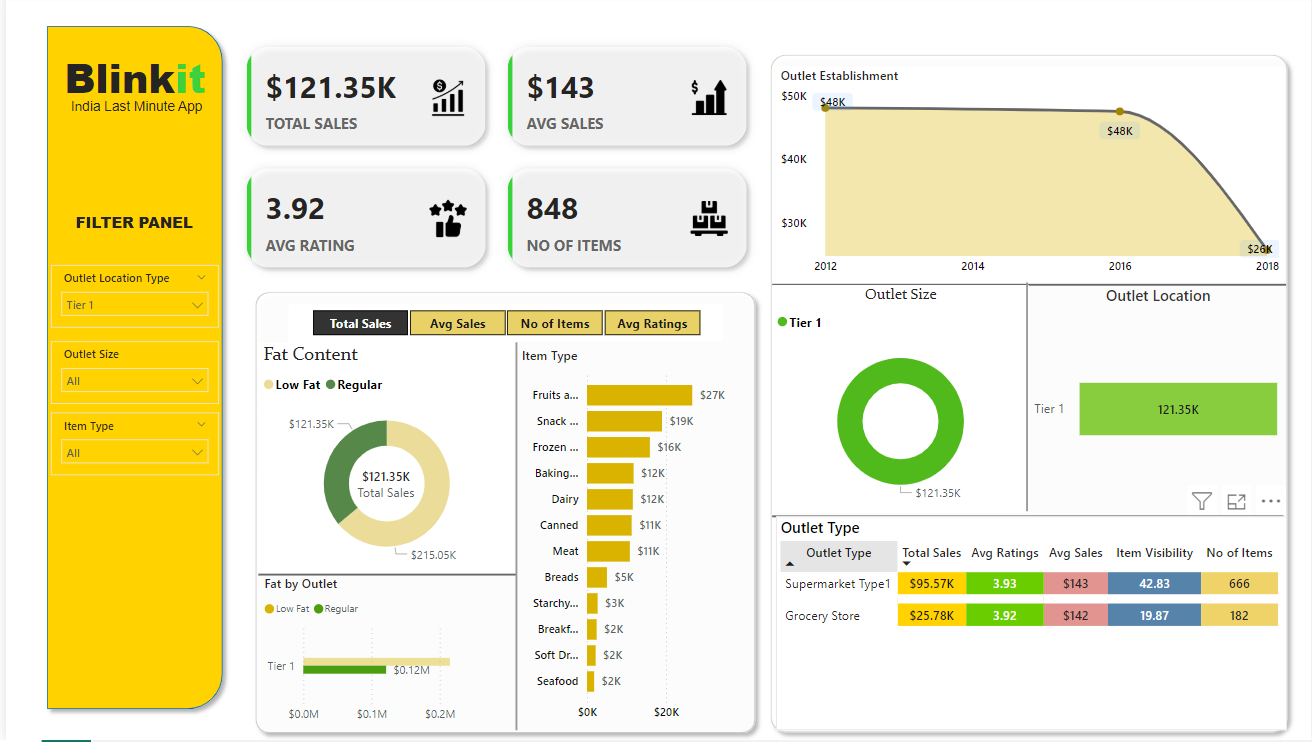

This screenshot's page, from the dashboard's own definition file:
{"tool":"powerbi","page":{"name":"Page 1","canvas":[1400,800],"ordinal":0},"visuals":[{"type":"shape","box":[34.9,24.1,206.4,750.7],"z":0},{"type":"textbox","box":[48,54,180.1,88.6],"z":1000},{"type":"textbox","box":[64.5,103.6,163.6,39],"z":2000},{"type":"cardVisual","fields":{"Data":["BlinkIT Grocery Data.Total Sales","BlinkIT Grocery Data.Avg Sales","BlinkIT Grocery Data.Avg Ratings","BlinkIT Grocery Data.No of Items"]},"box":[241.6,39,570.3,270.2],"z":3000},{"type":"shape","box":[258.1,309.2,553.8,490.8],"z":4000},{"type":"donutChart","title":" Fat Content","fields":{"Y":["BlinkIT Grocery Data.Total Sales"],"Category":["BlinkIT Grocery Data.Item Fat Content"]},"box":[271,372.4,275.5,248.3],"z":5000},{"type":"slicer","fields":{"Values":["Metrics.Metrics"]},"box":[303.2,331.7,465.3,40.5],"z":6000},{"type":"cardVisual","fields":{"Data":["BlinkIT Grocery Data.Total Sales"]},"box":[352.7,481.4,110.5,87.8],"z":7000},{"type":"clusteredBarChart","title":"Fat by Outlet","fields":{"Y":["BlinkIT Grocery Data.Total Sales"],"Category":["BlinkIT Grocery Data.Outlet Location Type"],"Series":["BlinkIT Grocery Data.Item Fat Content"]},"box":[271.7,621.4,276.2,166.6],"z":8000},{"type":"shape","box":[271,602.5,277,39.4],"z":9000},{"type":"shape","box":[523.8,372.2,46.5,415.7],"z":10000},{"type":"barChart","title":"Item Type","fields":{"Y":["BlinkIT Grocery Data.Total Sales"],"Category":["BlinkIT Grocery Data.Item Type"]},"box":[547.8,376.7,249.1,411.2],"z":11000},{"type":"shape","box":[811.4,54.5,572.2,744.8],"z":12000},{"type":"lineChart","title":"Outlet Establishment ","fields":{"Category":["BlinkIT Grocery Data.Outlet Establishment Year"],"Y":["BlinkIT Grocery Data.Total Sales"]},"box":[825.5,76.5,544.8,232.6],"z":13000},{"type":"shape","box":[822,289.1,551,42.4],"z":14000},{"type":"donutChart","title":"Outlet Size","fields":{"Y":["BlinkIT Grocery Data.Total Sales"],"Category":["BlinkIT Grocery Data.Outlet Location Type"]},"box":[822,310.3,275.5,243.7],"z":15000},{"type":"funnel","title":"Outlet Location ","fields":{"Category":["BlinkIT Grocery Data.Outlet Location Type"],"Y":["Sum(BlinkIT Grocery Data.Sales)"]},"box":[1097.5,310.3,275.5,243.7],"z":16000},{"type":"shape","box":[1079.4,308.8,31.8,245.2],"z":17000},{"type":"shape","box":[822,534.4,548,48.4],"z":18000},{"type":"pivotTable","title":"Outlet Type","fields":{"Rows":["BlinkIT Grocery Data.Outlet Type"],"Values":["BlinkIT Grocery Data.Total Sales","BlinkIT Grocery Data.Avg Ratings","BlinkIT Grocery Data.Avg Sales","Sum(BlinkIT Grocery Data.Item Visibility)","BlinkIT Grocery Data.No of Items"]},"box":[825.7,559,548.3,229.2],"z":19000},{"type":"slicer","fields":{"Values":["BlinkIT Grocery Data.Outlet Location Type"]},"box":[48.3,289.5,179.6,67],"z":19001},{"type":"slicer","fields":{"Values":["BlinkIT Grocery Data.Outlet Size"]},"box":[48.3,371.3,179.6,67],"z":19002},{"type":"slicer","fields":{"Values":["BlinkIT Grocery Data.Item Type"]},"box":[48.3,447.7,179.6,67],"z":19003},{"type":"textbox","box":[60.3,227.9,154.2,49.6],"z":19004}]}

Visuals, with their boxes in screenshot pixels (x1, y1, x2, y2), scaled from the page's 1400x800 canvas onto the 1312x742 screenshot:
shape: <bbox>33, 22, 226, 719</bbox>
textbox: <bbox>45, 50, 214, 132</bbox>
textbox: <bbox>60, 96, 214, 132</bbox>
cardVisual - BlinkIT Grocery Data.Total Sales x BlinkIT Grocery Data.Avg Sales: <bbox>226, 36, 761, 287</bbox>
shape: <bbox>242, 287, 761, 741</bbox>
" Fat Content" donutChart: <bbox>254, 345, 512, 576</bbox>
slicer - Metrics.Metrics: <bbox>284, 308, 720, 345</bbox>
cardVisual - BlinkIT Grocery Data.Total Sales: <bbox>331, 446, 434, 528</bbox>
"Fat by Outlet" clusteredBarChart: <bbox>255, 576, 513, 731</bbox>
shape: <bbox>254, 559, 514, 595</bbox>
shape: <bbox>491, 345, 534, 731</bbox>
"Item Type" barChart: <bbox>513, 349, 747, 731</bbox>
shape: <bbox>760, 51, 1297, 741</bbox>
"Outlet Establishment " lineChart: <bbox>774, 71, 1284, 287</bbox>
shape: <bbox>770, 268, 1287, 307</bbox>
"Outlet Size" donutChart: <bbox>770, 288, 1029, 514</bbox>
"Outlet Location " funnel: <bbox>1029, 288, 1287, 514</bbox>
shape: <bbox>1012, 286, 1041, 514</bbox>
shape: <bbox>770, 496, 1284, 541</bbox>
"Outlet Type" pivotTable: <bbox>774, 518, 1288, 731</bbox>
slicer - BlinkIT Grocery Data.Outlet Location Type: <bbox>45, 269, 214, 331</bbox>
slicer - BlinkIT Grocery Data.Outlet Size: <bbox>45, 344, 214, 407</bbox>
slicer - BlinkIT Grocery Data.Item Type: <bbox>45, 415, 214, 477</bbox>
textbox: <bbox>57, 211, 201, 257</bbox>
